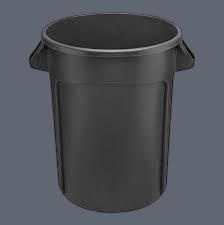garbage container: (25, 9, 197, 215)
